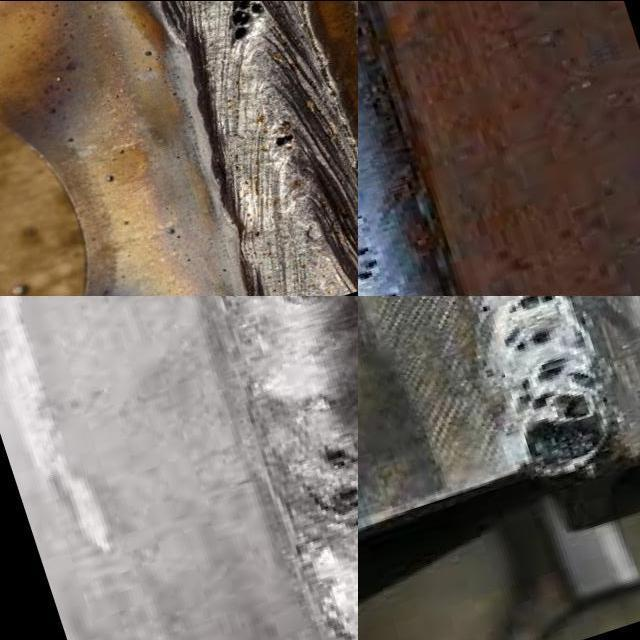defect: (513, 354, 615, 479), (485, 295, 571, 320), (498, 321, 559, 355), (223, 0, 270, 41), (318, 486, 358, 531), (306, 444, 358, 476), (358, 244, 386, 282), (269, 129, 300, 149), (358, 211, 377, 240)
